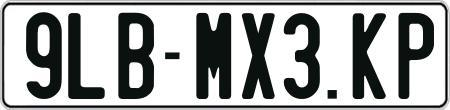3: (283, 10, 322, 101)
9: (24, 11, 61, 102)
B: (115, 13, 151, 101)
K: (351, 13, 386, 102)
L: (68, 10, 110, 102)
M: (196, 12, 234, 103)
P: (398, 13, 433, 99)
X: (240, 11, 275, 99)
